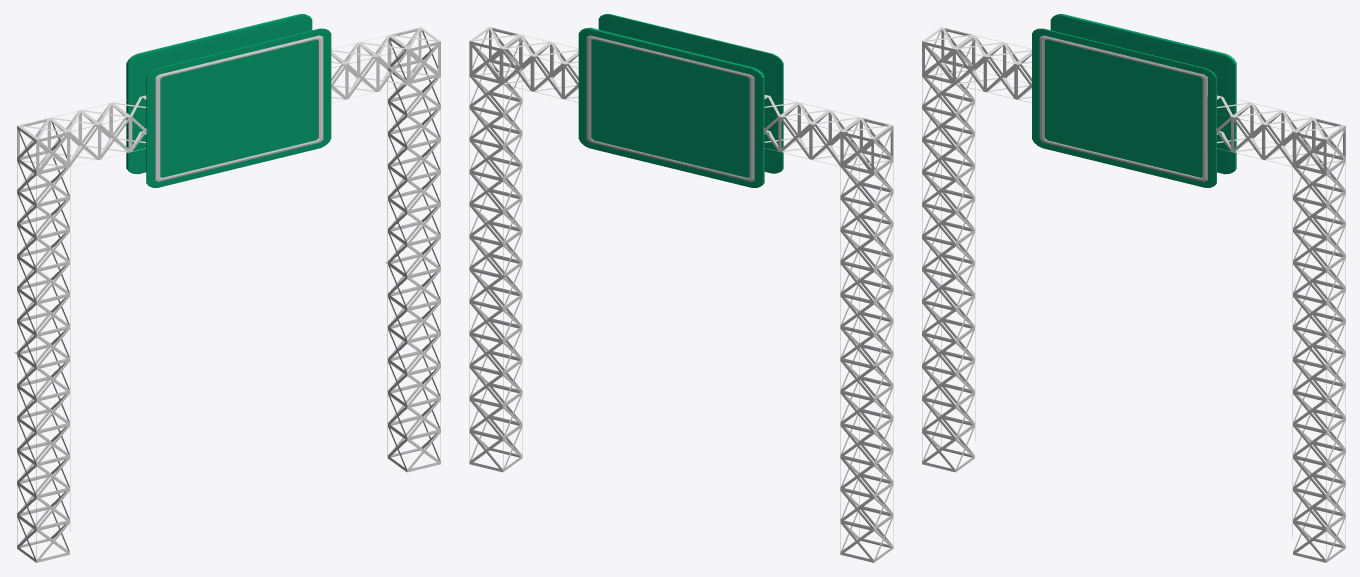
Rendered from signal.gltf.
3 views of the same model, side by side, from view 1: azimuth 30°, elevation 25°; view 2: azimuth 150°, elevation 25°; view 3: azimuth 330°, elevation 25° (orthographic).
Parts seen in each view (by area): view 1: Cube.004, Cube.001, Cube.002, Cube, Cube.003, Torus.001; view 2: Cube.003, Cube.001, Cube.002, Cube, Cube.004, Torus.000; view 3: Cube.004, Cube.002, Cube.001, Cube, Cube.003, Torus.001.
Part boxes in pixels (x1,y1,x2,y2): Cube.004: (146, 28, 331, 187); Cube.001: (14, 119, 70, 562); Cube.002: (385, 28, 440, 472); Cube: (17, 27, 440, 174); Cube.003: (126, 14, 312, 174); Torus.001: (155, 35, 323, 181); Cube.003: (578, 27, 764, 187); Cube.001: (840, 118, 893, 562); Cube.002: (469, 27, 522, 472); Cube: (469, 27, 893, 174); Cube.004: (598, 14, 783, 173); Torus.000: (586, 35, 754, 181); Cube.004: (1032, 28, 1216, 187); Cube.002: (1292, 119, 1345, 562); Cube.001: (922, 28, 975, 472); Cube: (922, 27, 1345, 174); Cube.003: (1050, 14, 1236, 174); Torus.001: (1039, 35, 1207, 181).
Size of the model in its own units: 24.35 by 26.55 by 2.25.
